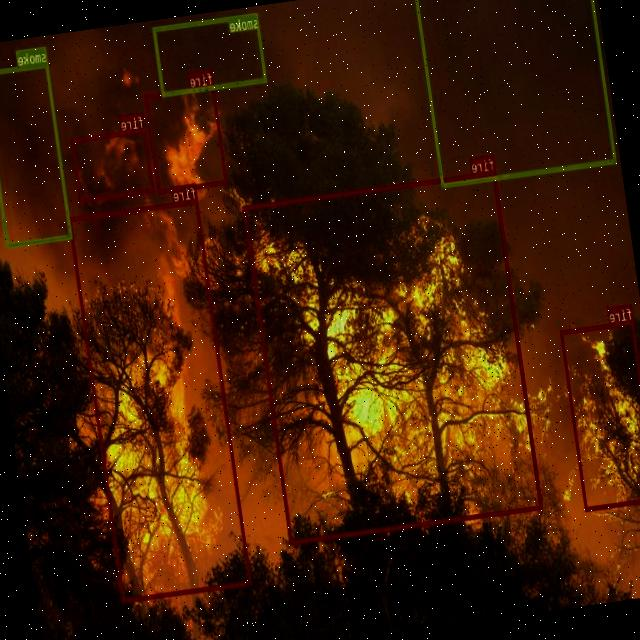fire: (243, 170, 544, 544), (69, 199, 252, 602), (560, 319, 640, 510), (145, 84, 229, 193), (72, 128, 154, 202)
smoke: (413, 0, 617, 187), (0, 61, 73, 246), (152, 12, 268, 96)
